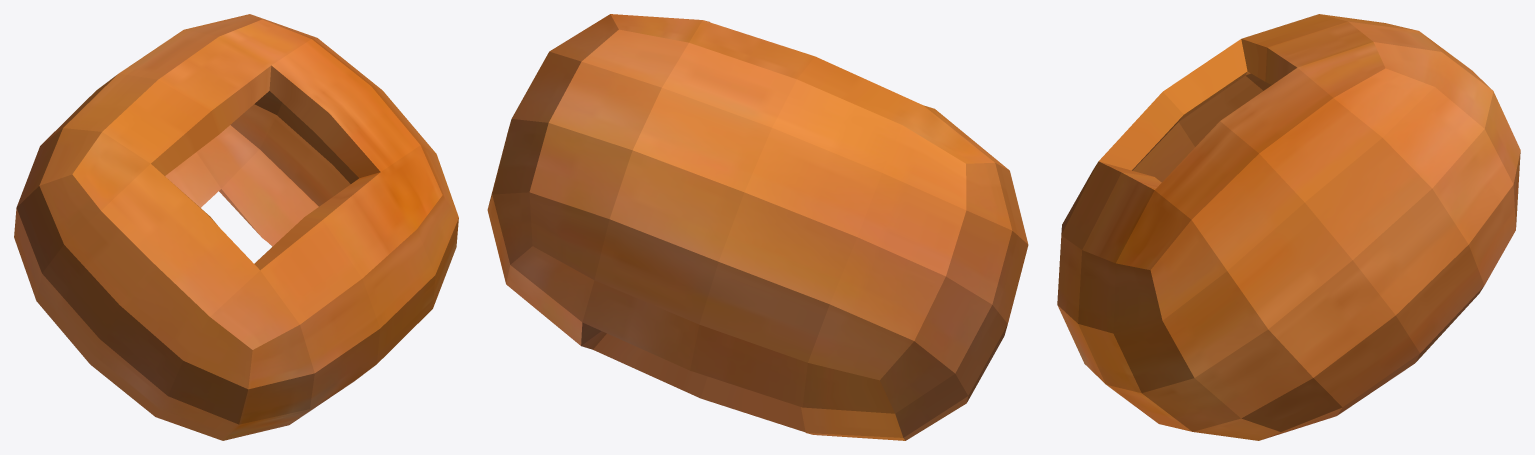
Rendered from doughnut.glb.
3 renders of one model, left to right at view 1: azimuth 30°, elevation 25°; view 2: azimuth 150°, elevation 25°; view 3: azimuth 270°, elevation 25°, orthographic. The views are drawn at different scales.
Parts seen in each view (by area): view 1: Cube; view 2: Cube; view 3: Cube.
Boxes of the visible parts, x1,y1,x2,y2 form: Cube: [14, 14, 458, 440]; Cube: [487, 14, 1028, 440]; Cube: [1057, 14, 1520, 440].
Size of the model in its own units: 2.51 by 2.1 by 2.23.
2 materials, 2 textured.
